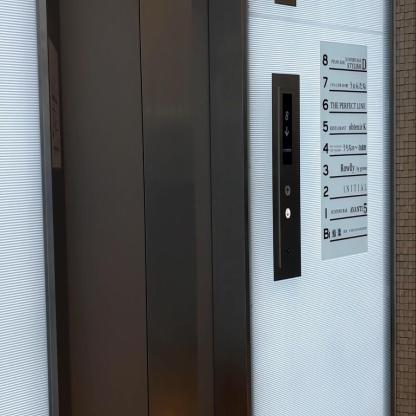down: (284, 206, 291, 220)
led: (281, 90, 293, 166)
up: (284, 183, 291, 197)
